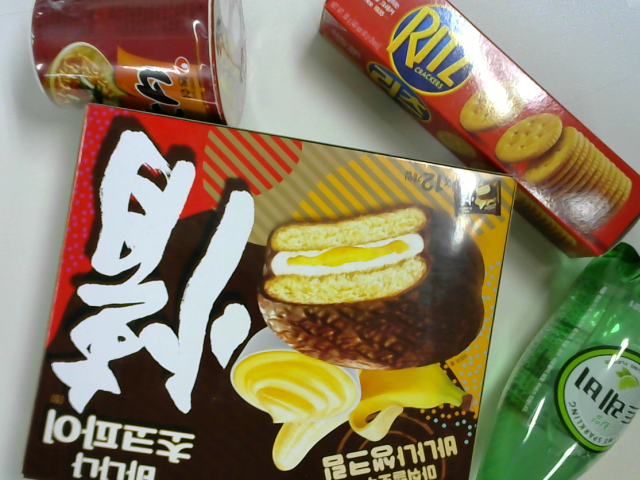Choco_Pie_Banana: (22, 99, 525, 480)
Raccoon: (23, 1, 259, 134)
Ritz_Cracker: (316, 1, 640, 266)
Treviraim_500ml: (440, 236, 637, 480)
